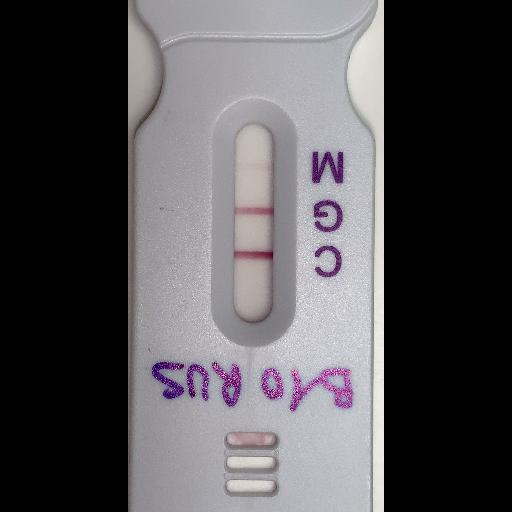Pos: (128, 0, 377, 511)
